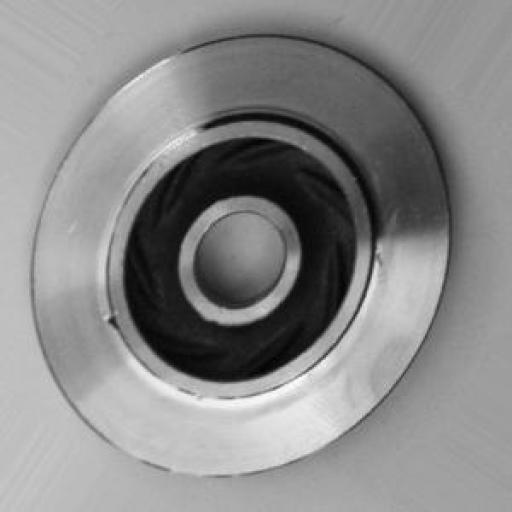defect: (78, 276, 160, 368)
